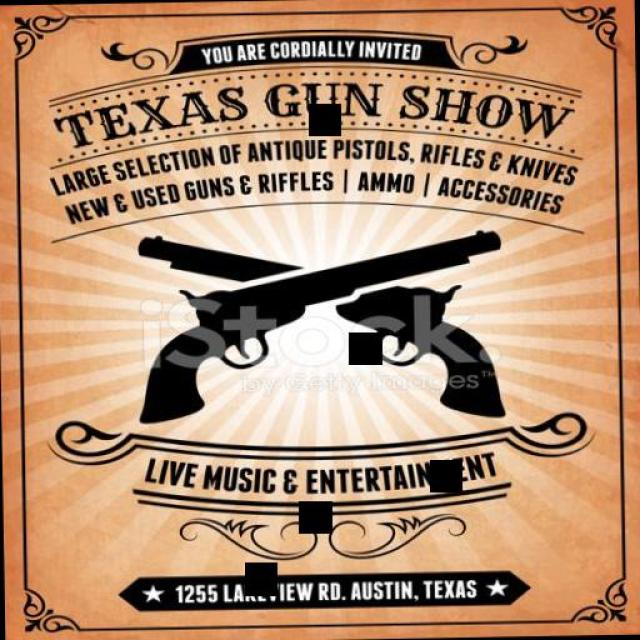gun: (134, 228, 502, 422)
